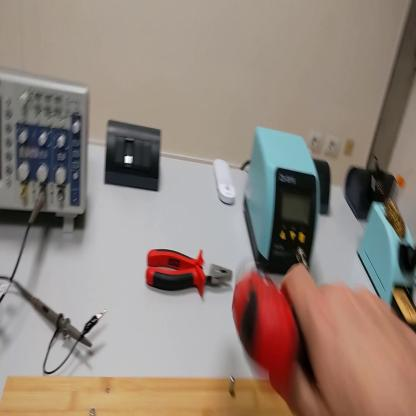electric screwdriver: (229, 269, 315, 392)
hand: (274, 263, 416, 415)
oscilloscope: (1, 67, 89, 232)
oscilloscope probe tip: (16, 284, 93, 348)
pliers: (145, 247, 234, 301)
socket: (345, 163, 396, 222), (314, 158, 332, 216)
welder base: (362, 175, 416, 329)
welder probe tip: (407, 245, 416, 269)
welder station: (246, 130, 322, 274)
working area: (2, 371, 311, 416)
